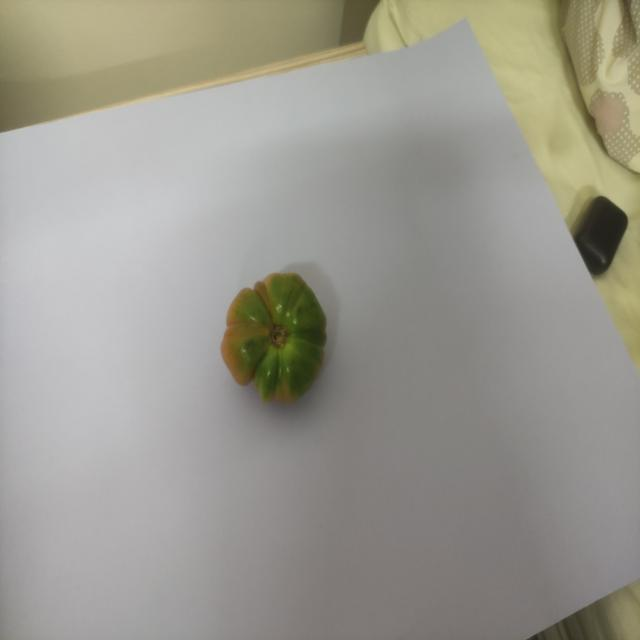yesil: (219, 269, 329, 407)
